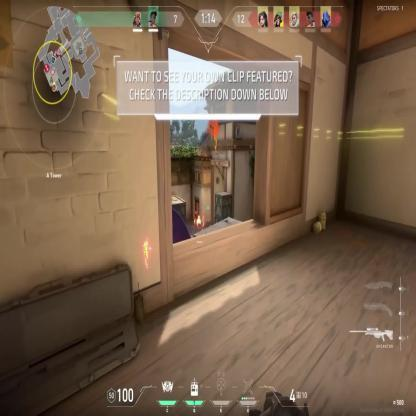enemy: (142, 238, 151, 267)
enemy_head: (146, 238, 148, 243)
